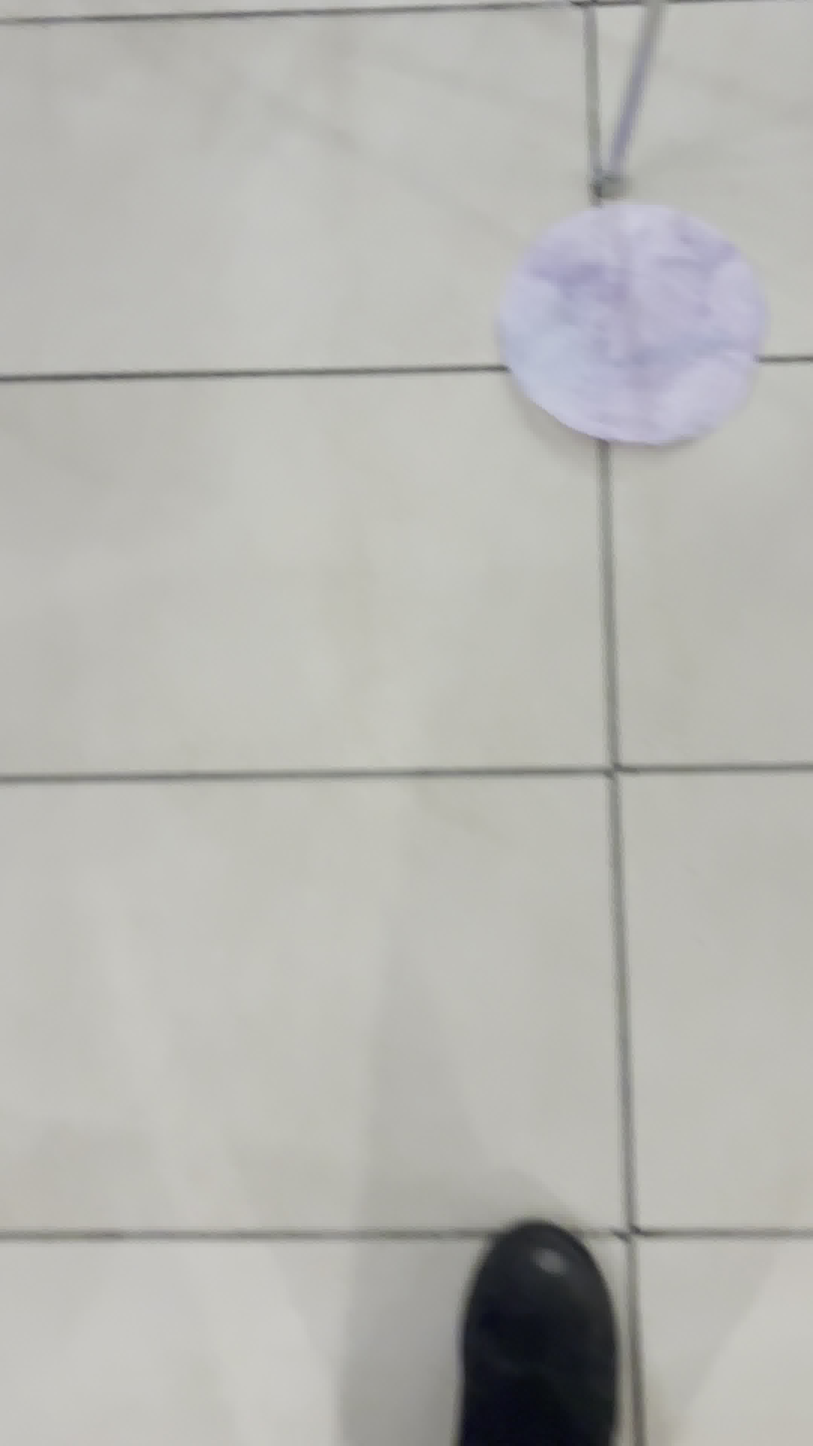Target: (486, 215, 778, 448)
